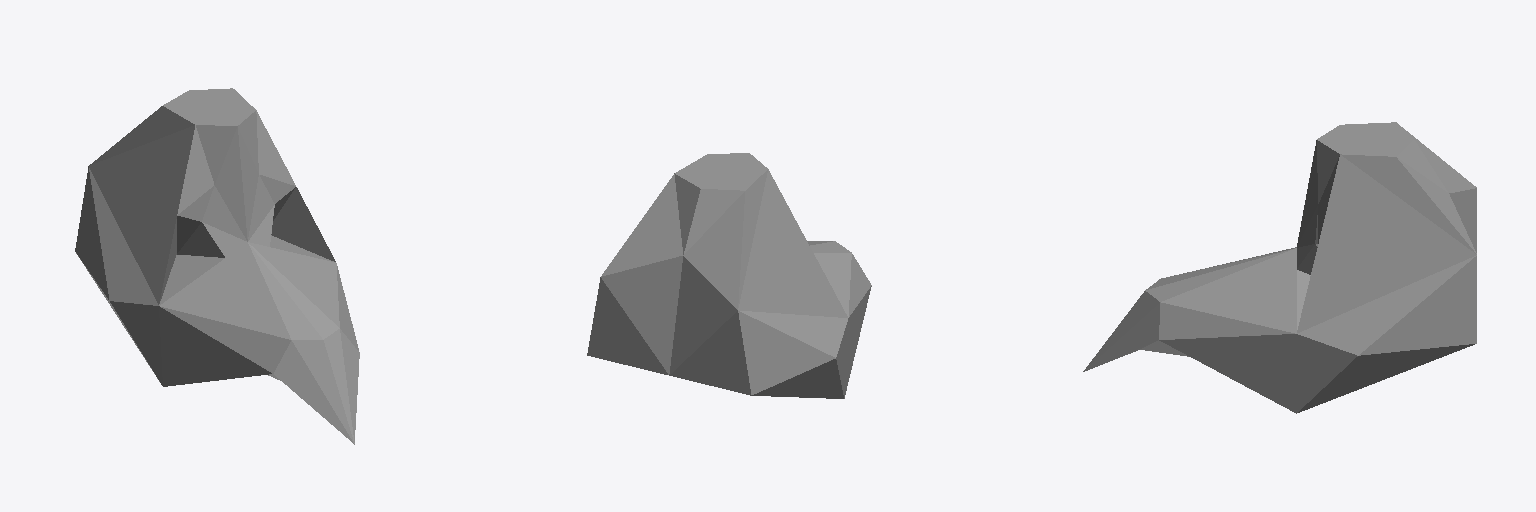
Rendered from bird_skull.obj.
3 renders of one model, left to right at view 1: azimuth 30°, elevation 25°; view 2: azimuth 150°, elevation 25°; view 3: azimuth 270°, elevation 25°, orthographic.
Parts seen in each view (by area): view 1: Cube; view 2: Cube; view 3: Cube.
Part boxes in pixels (x1,y1,x2,y2): Cube: (75, 88, 359, 444); Cube: (587, 153, 871, 398); Cube: (1083, 122, 1476, 413).
Bounding box in the file's own units: 2.74 × 2.84 × 4.37.